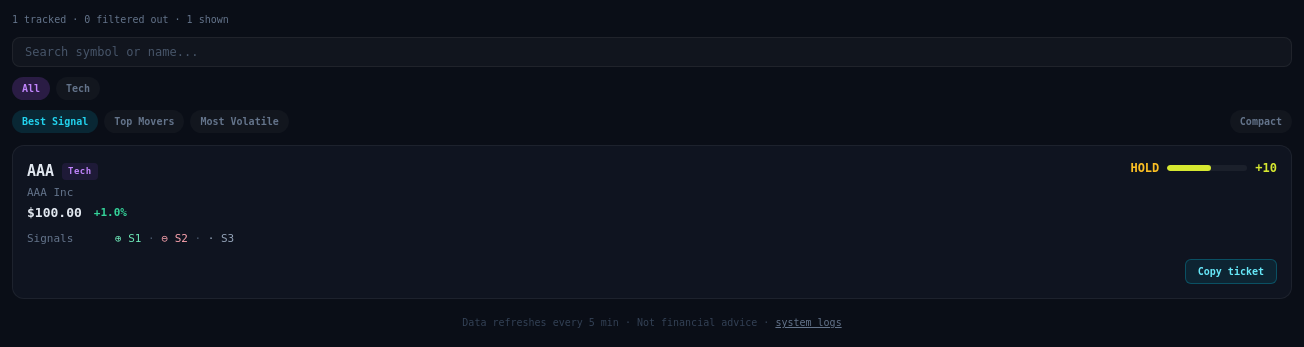
ScannerView › renders empty state when no stocks match the search
Type "ZZZZZZ" into the field with placeholder "Search symbol or name...".
click(652, 52); type("ZZZZZZ")  # box x1=12 y1=37 x2=1292 y2=67
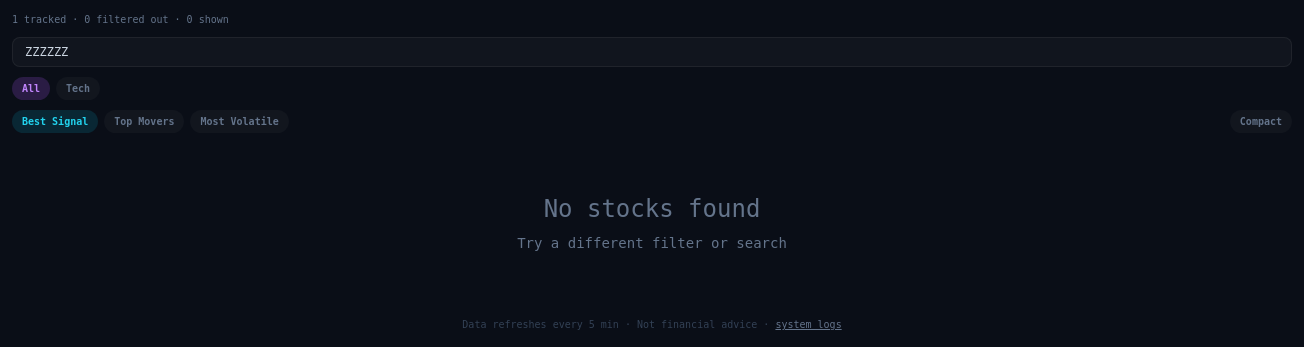
Check: the text "No stocks found" is shown, box x1=544 y1=195 x2=760 y2=223
